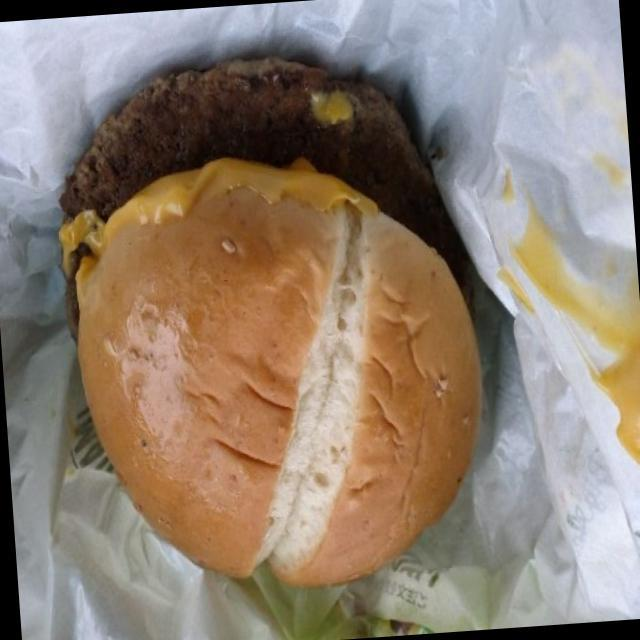Hamburger: (22, 31, 503, 622)
